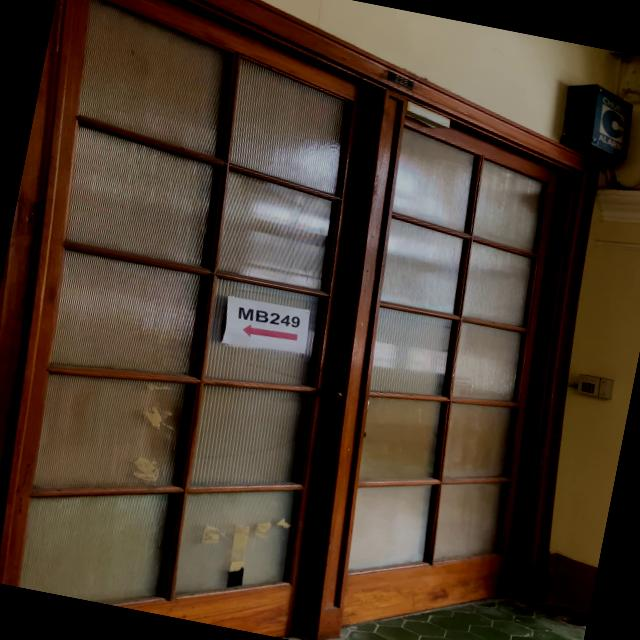room228: (384, 68, 418, 92)
